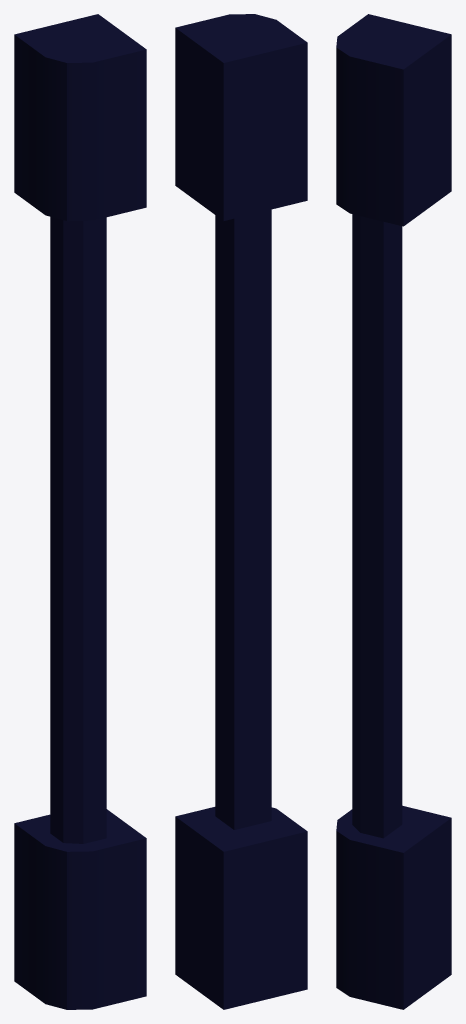
The model's file is SM_frame_element.fbx.
3 views of the same model, side by side, from view 1: azimuth 30°, elevation 25°; view 2: azimuth 210°, elevation 25°; view 3: azimuth 330°, elevation 25° (orthographic).
Visible parts, largest first — view 1: frame_element; view 2: frame_element; view 3: frame_element.
Boxes of the visible parts, x1,y1,x2,y2 form: frame_element: (14,14,146,1009); frame_element: (175,14,307,1009); frame_element: (336,14,451,1009).
Size of the model in its own units: 10 by 108 by 10.
